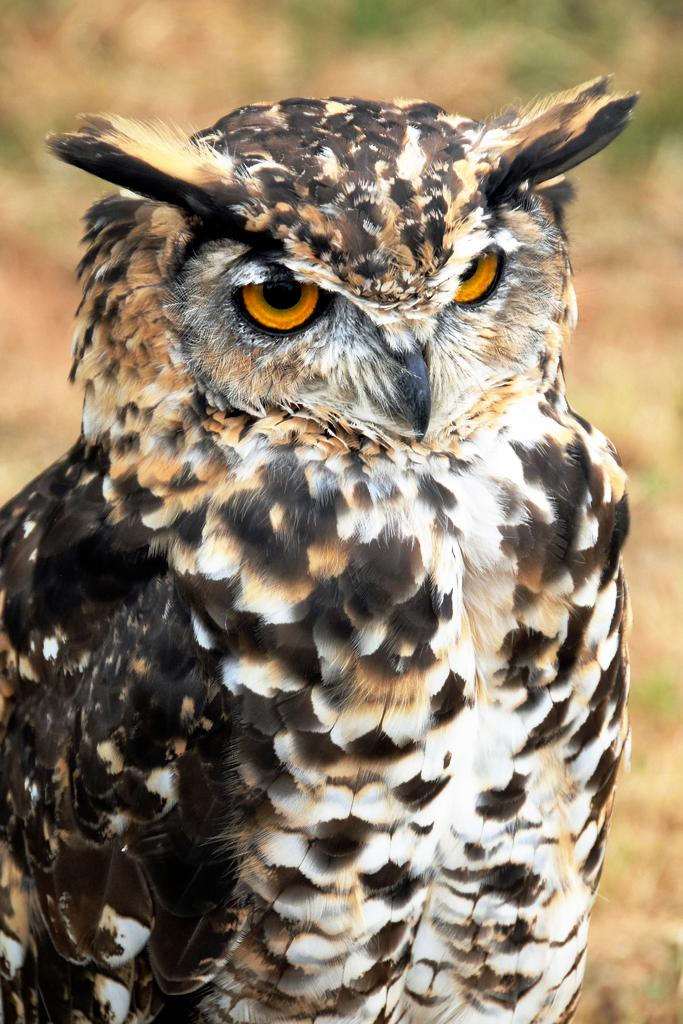Owl: (0, 75, 634, 1023)
